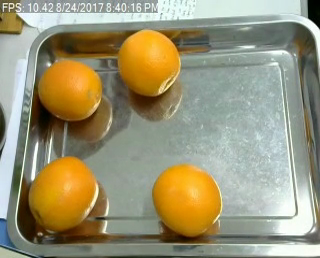Orange: (26, 155, 97, 231), (153, 165, 223, 235), (118, 28, 182, 95), (36, 58, 104, 119)
